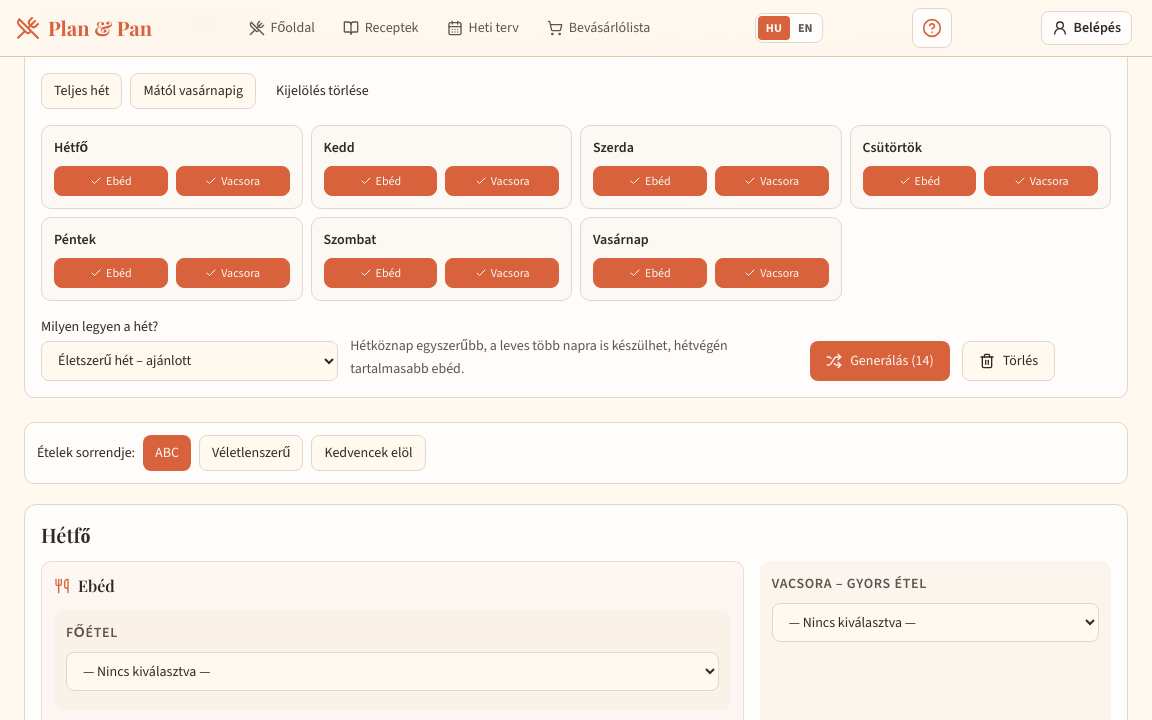
Test: planner meal cards › shows saved meals before generation settings and reveals setup only on request
The image size is (1152, 720).
(page scrolled)
Click the button "Generálás (14)".
click(880, 360)  # box [810,340,950,380]
(page scrolled)
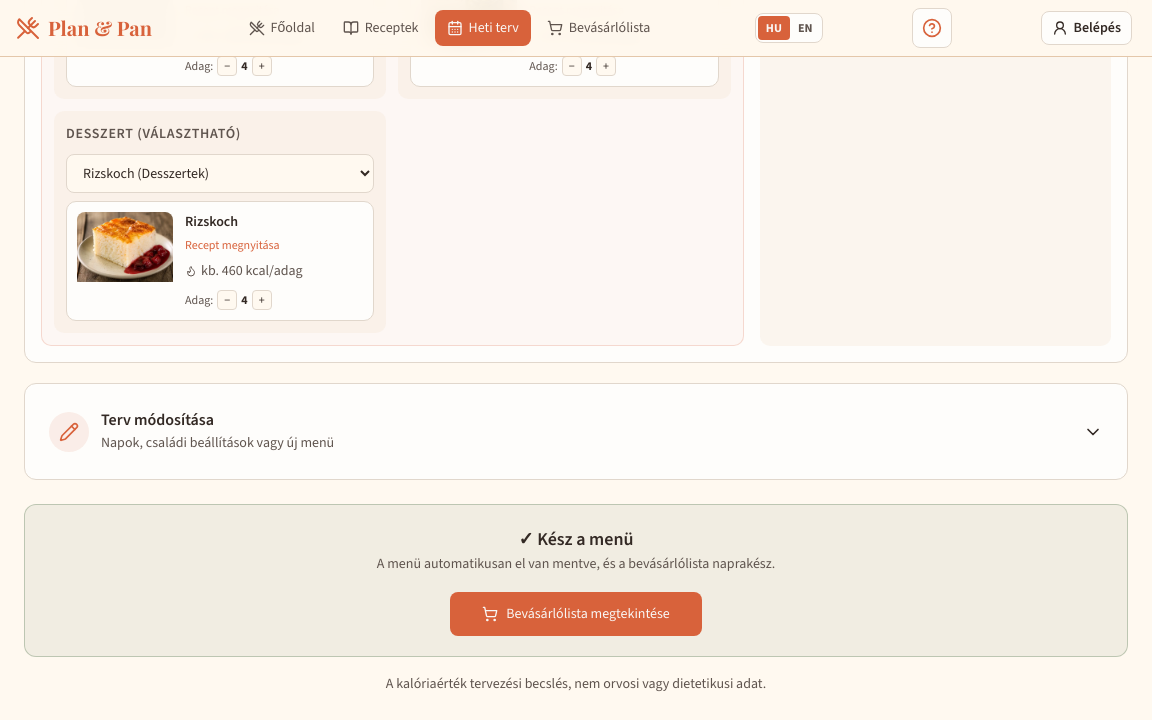
Now the heading "Melyik napokra készüljön menü?" is gone
Click the button "Terv módosítása Napok, családi beállítások vagy új menü".
click(69, 432)  # box [41,400,1111,463]
(page scrolled)
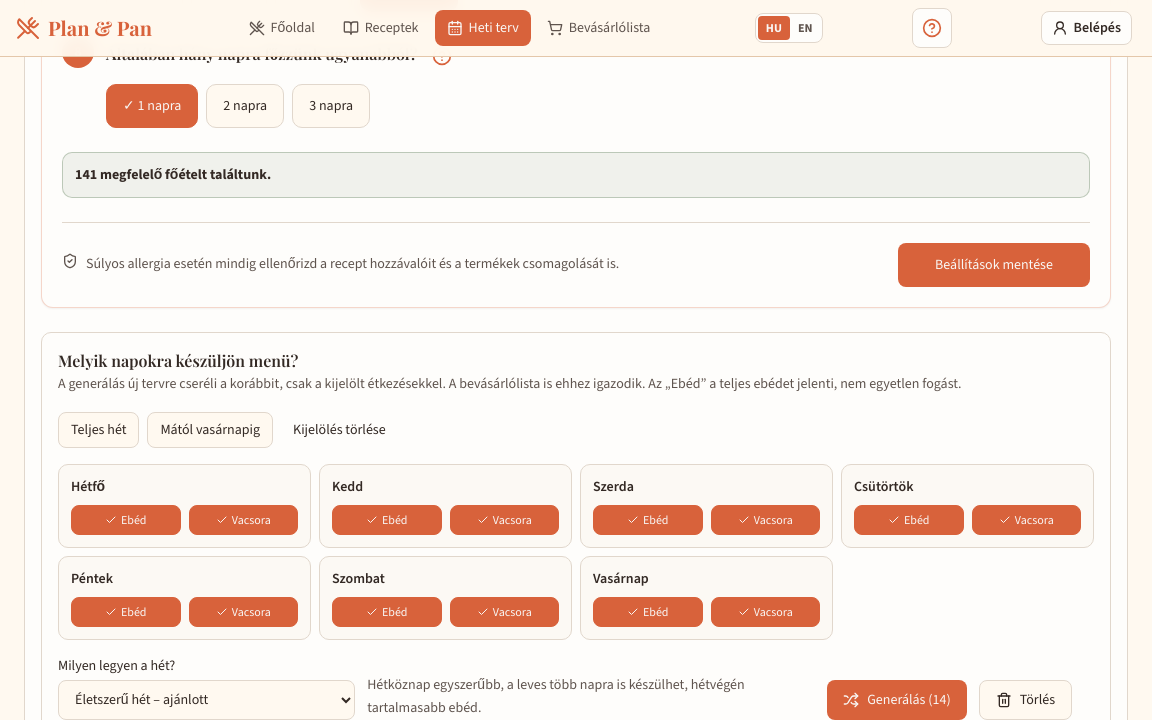
Now the heading "Melyik napokra készüljön menü?" is shown, box [58,350,298,371]
